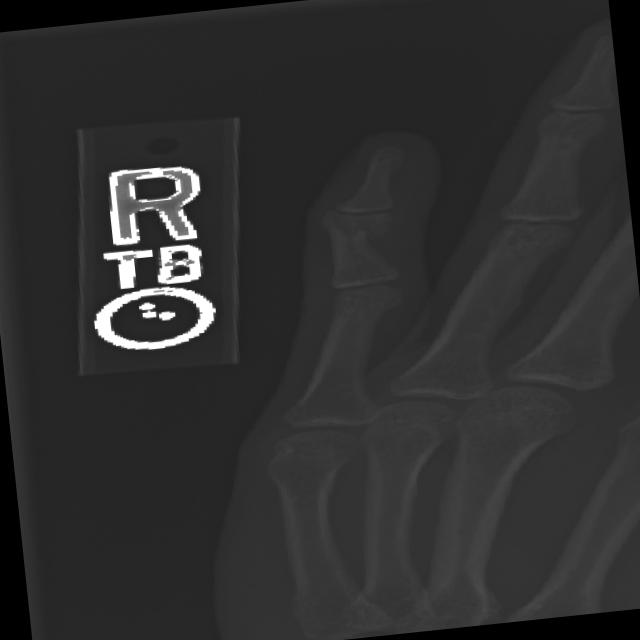fingers positive: (312, 201, 404, 253)
